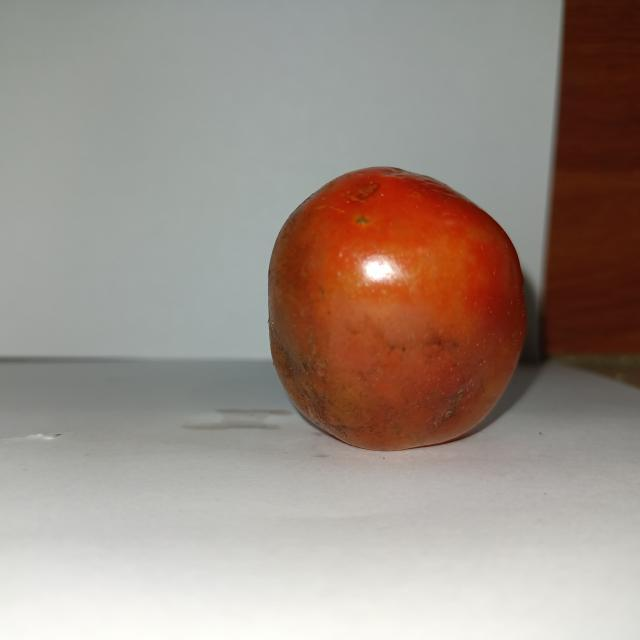Red: (265, 164, 528, 452)
